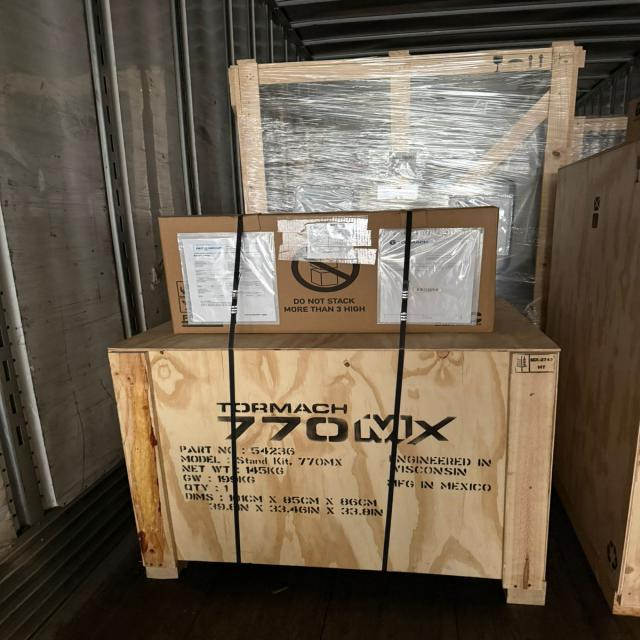15lx: (228, 42, 585, 319)
stnd770: (108, 300, 559, 605)
